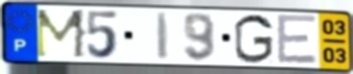5: (85, 9, 124, 62)
9: (181, 11, 217, 64)
E: (275, 13, 320, 67)
G: (232, 13, 275, 66)
I: (154, 11, 171, 62)
M: (34, 8, 89, 61)
